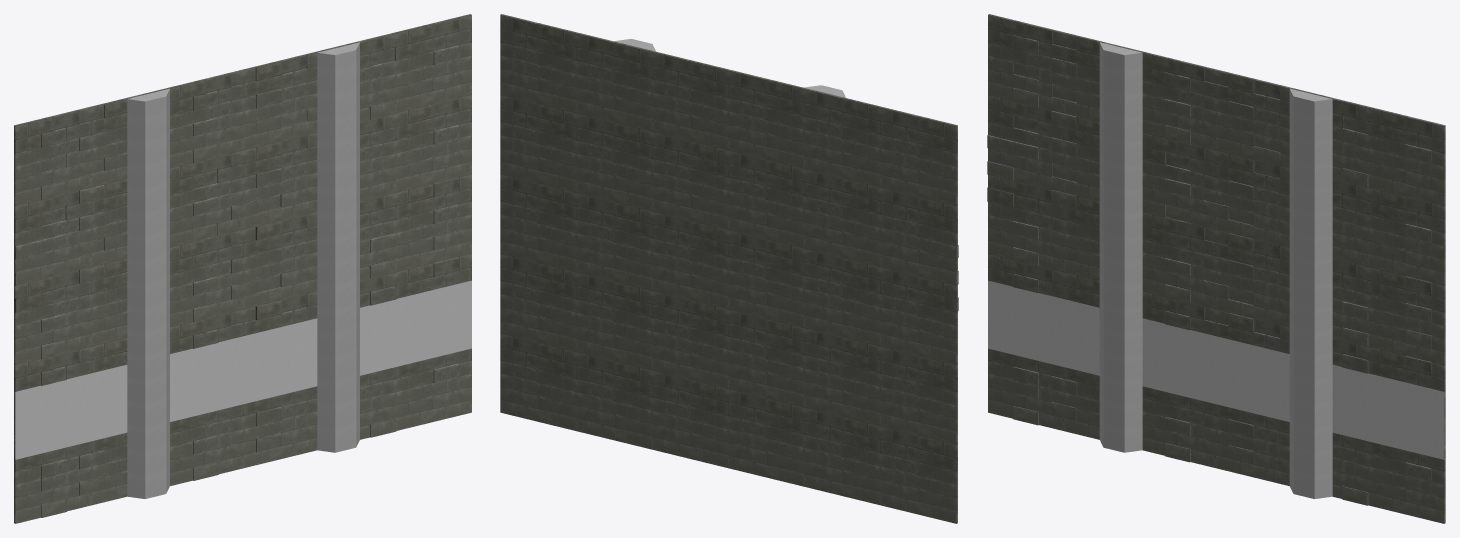
File: Tutorial_Model_Structure_Hallway_1.fbx
The picture shows the model from 3 angles, left to right: view 1: azimuth 30°, elevation 25°; view 2: azimuth 150°, elevation 25°; view 3: azimuth 330°, elevation 25°; orthographic projection.
Visible parts, largest first — view 1: Wall_1, Pillar_2, Pillar_1; view 2: Wall_1; view 3: Wall_1, Pillar_2, Pillar_1.
Boxes of the visible parts, bbox=[...] form: Wall_1: bbox=[14, 14, 471, 523]; Pillar_2: bbox=[317, 42, 359, 452]; Pillar_1: bbox=[127, 88, 169, 498]; Wall_1: bbox=[500, 14, 958, 523]; Wall_1: bbox=[987, 14, 1445, 523]; Pillar_2: bbox=[1289, 88, 1332, 498]; Pillar_1: bbox=[1099, 42, 1142, 452].
Bounding box in the file's own units: 237 × 197 × 7.51.
3 materials, 3 textured.
